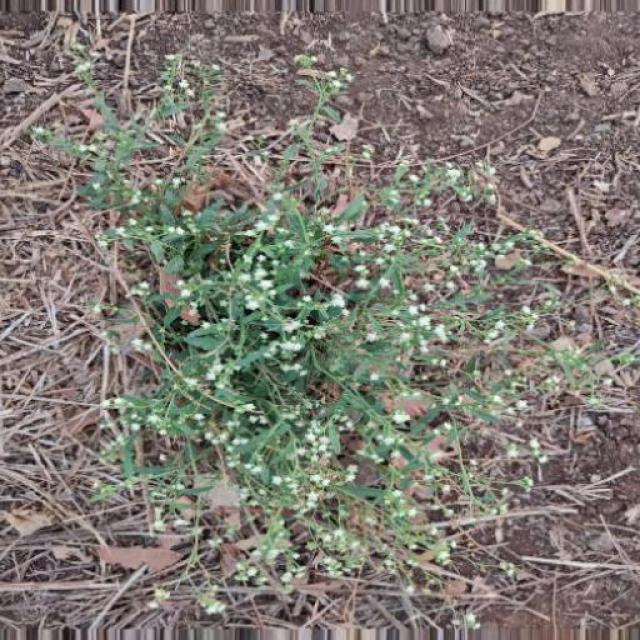weed: (51, 43, 621, 606)
